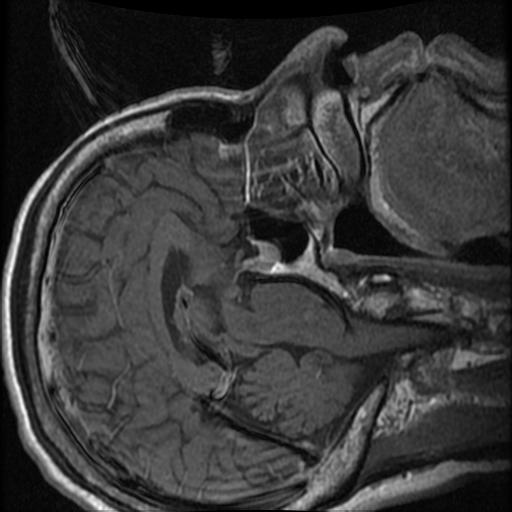pituitary tumour: (252, 239, 282, 274)
